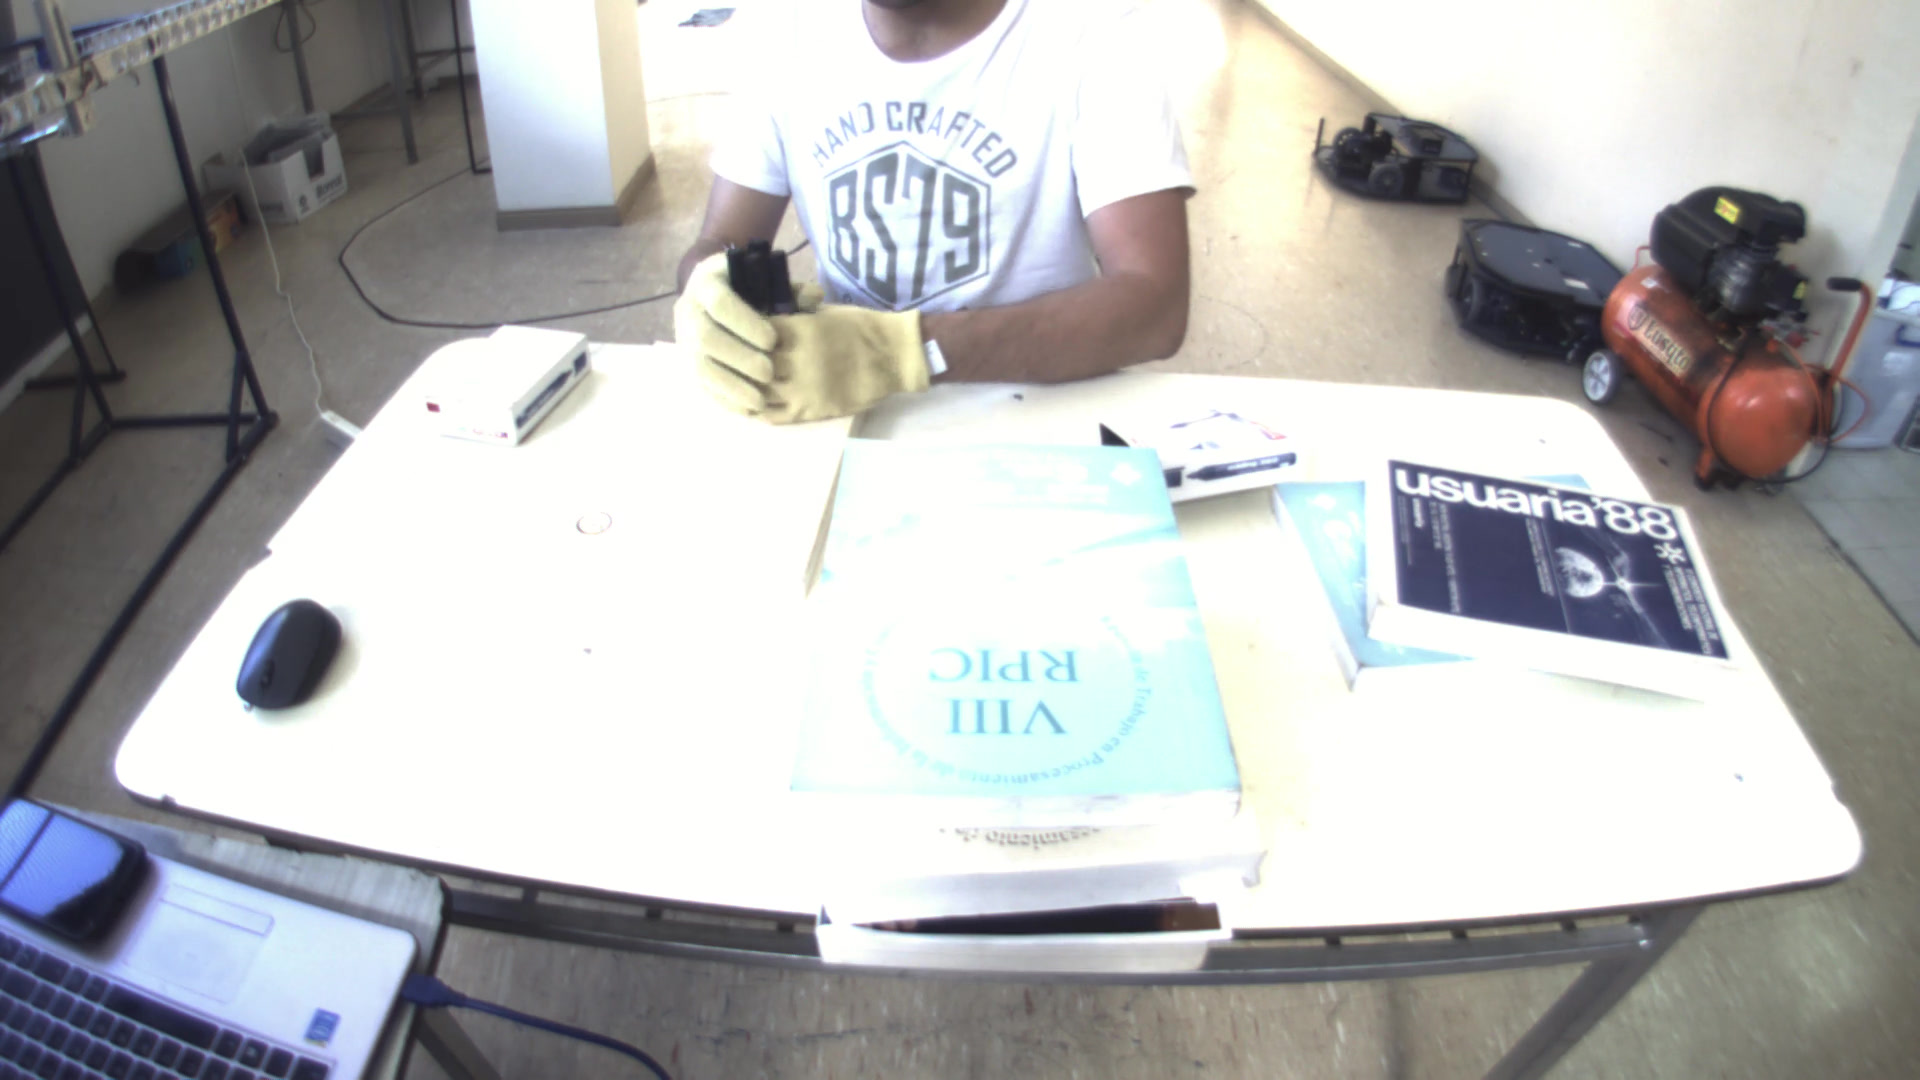hand: (742, 291, 938, 422), (669, 243, 770, 422)
